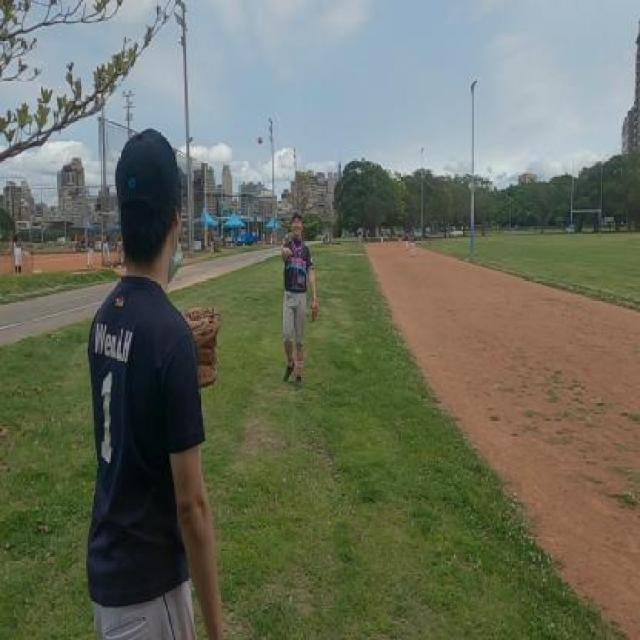baseball: (257, 136, 263, 144)
